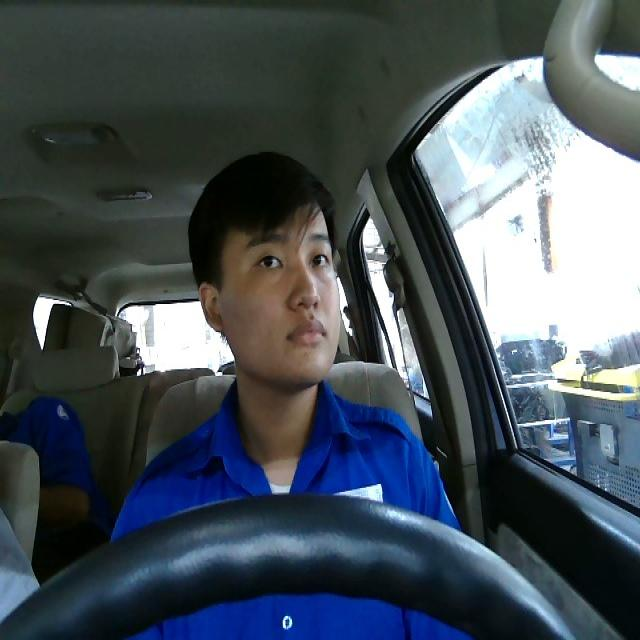seeing_right: (198, 196, 340, 385)
